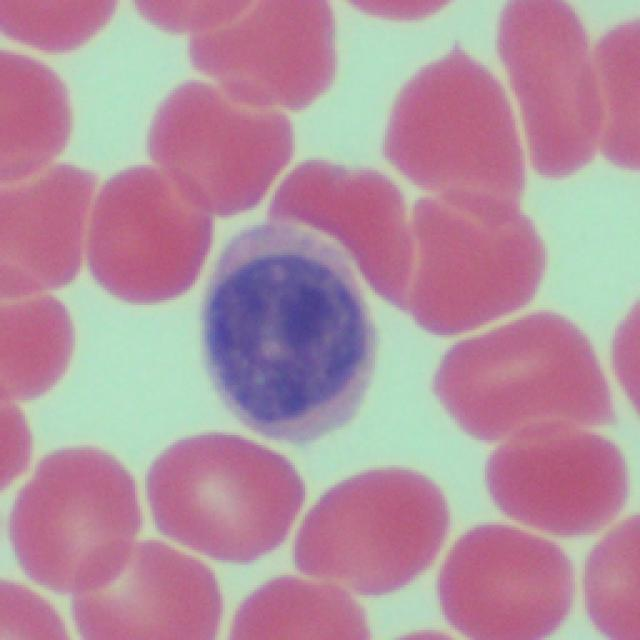RBC: (485, 303, 630, 540), (388, 49, 544, 213), (139, 426, 302, 569), (448, 316, 620, 451), (308, 449, 450, 602), (397, 191, 549, 324), (75, 157, 207, 310), (146, 76, 287, 219), (8, 442, 134, 596), (186, 0, 344, 114), (433, 520, 575, 638), (72, 536, 222, 640), (0, 164, 90, 285), (0, 51, 76, 184), (496, 2, 594, 104), (228, 573, 368, 640), (0, 286, 74, 394), (580, 515, 640, 638), (0, 0, 125, 52)
WBC: (204, 228, 370, 439)
